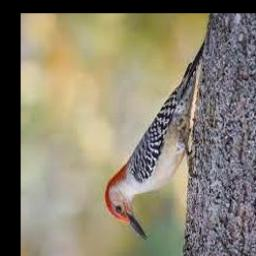Woodpecker: (104, 40, 206, 240)
